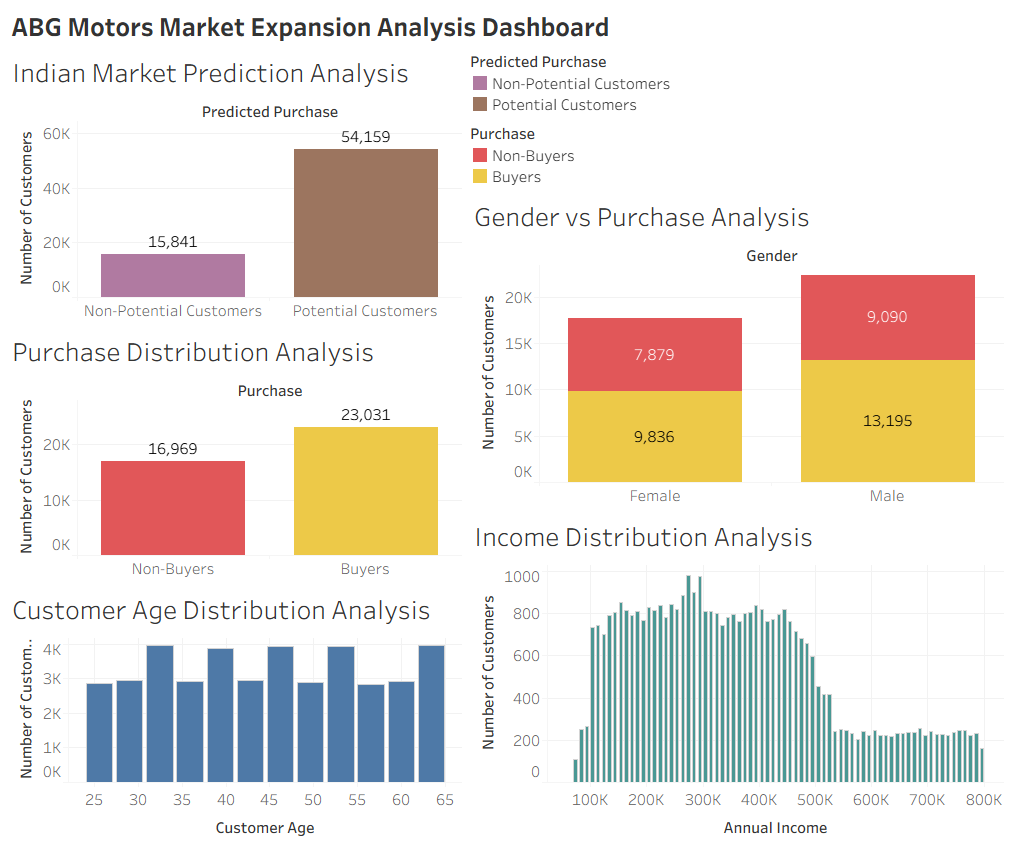

Layout of this report page (visuals, bound fields, positions):
{"tool":"tableau","page":{"name":"Dashboard 1","canvas":[1000,1000],"units":"permille","ordinal":0},"visuals":[{"type":"title","box":[7.8,9.4,984.3,49.3]},{"type":"worksheet","title":"Sheet 5","mark":"Automatic","rows":["Indian_Market_Predictions.csv_77468237BC2E4ADAB02ABCDEBD0E89"],"cols":["PREDICTED_PURCHASE"],"box":[7.8,58.7,452.9,324.2]},{"type":"legend","title":"Sheet 5","param":"[federated.1s08kef19jdbkg1an0ydw02i1xt2].[none:PREDICTED_PURCHASE:ok]","box":[460.8,58.7,531.4,84.5]},{"type":"legend","title":"Sheet 2","param":"[federated.0f7tz401ccuwbv1aozt4l0s8seyb].[none:PURCHASE:ok]","box":[460.8,143.2,531.4,84.5]},{"type":"worksheet","title":"Sheet 3","mark":"Automatic","rows":["CN!Mobiles_559EAA19462A4744BB51DC3A05E59F3E"],"cols":["GENDER"],"box":[460.8,227.7,531.4,370.9]},{"type":"worksheet","title":"Sheet 2","mark":"Automatic","rows":["CN!Mobiles_559EAA19462A4744BB51DC3A05E59F3E"],"cols":["PURCHASE"],"box":[7.8,382.8,452.9,299.9]},{"type":"worksheet","title":"Sheet 4","mark":"Automatic","rows":["ANN_INCOME"],"cols":["Ann Income (bin)"],"box":[460.8,598.6,531.4,392]},{"type":"worksheet","title":"Sheet 1","mark":"Automatic","rows":["CURR_AGE"],"cols":["Curr Age (bin)"],"box":[7.8,682.7,452.9,307.9]}]}

Visuals, with their boxes on the dashboard's canvas, which has no fixed pixel size, in thousandths of its width and height (x1, y1, x2, y2). These are canvas units, not pixel positions in the 1010x844 screenshot, which may show the page scaled, cropped or inside an application window:
title: <box>8,9,992,59</box>
"Sheet 5" worksheet: <box>8,59,461,383</box>
"Sheet 5" legend: <box>461,59,992,143</box>
"Sheet 2" legend: <box>461,143,992,228</box>
"Sheet 3" worksheet: <box>461,228,992,599</box>
"Sheet 2" worksheet: <box>8,383,461,683</box>
"Sheet 4" worksheet: <box>461,599,992,991</box>
"Sheet 1" worksheet: <box>8,683,461,991</box>
